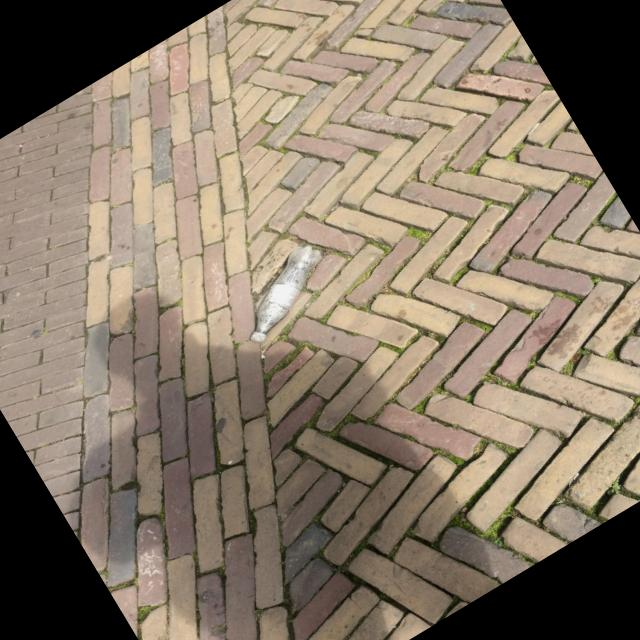Bottle cap: (252, 334, 266, 343)
Clear plastic bottle: (252, 246, 324, 342)
